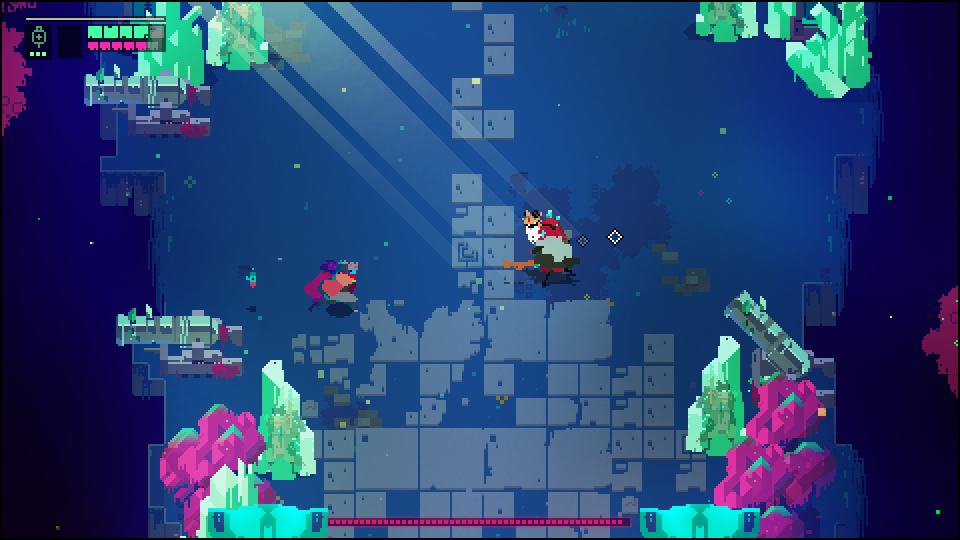hanged_man: (502, 203, 580, 276)
player: (321, 258, 362, 314)
